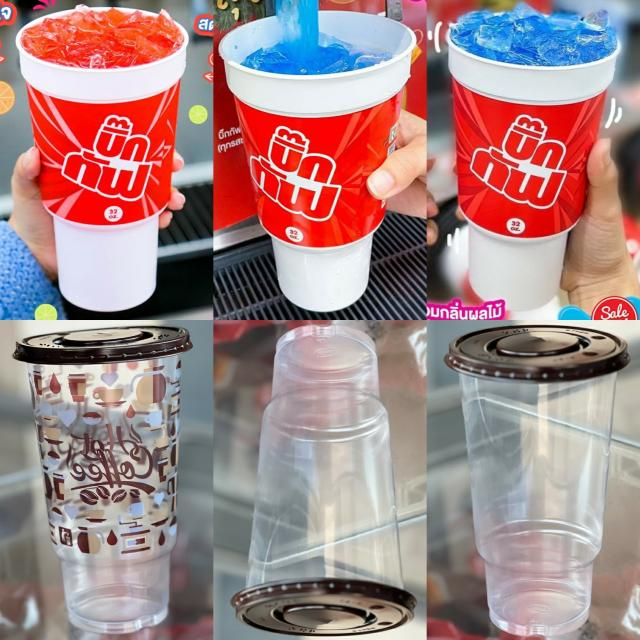Single-Use-Plastic: (220, 11, 415, 311), (445, 325, 630, 636), (231, 325, 416, 635), (14, 325, 192, 633), (16, 6, 189, 311), (448, 8, 620, 310)
